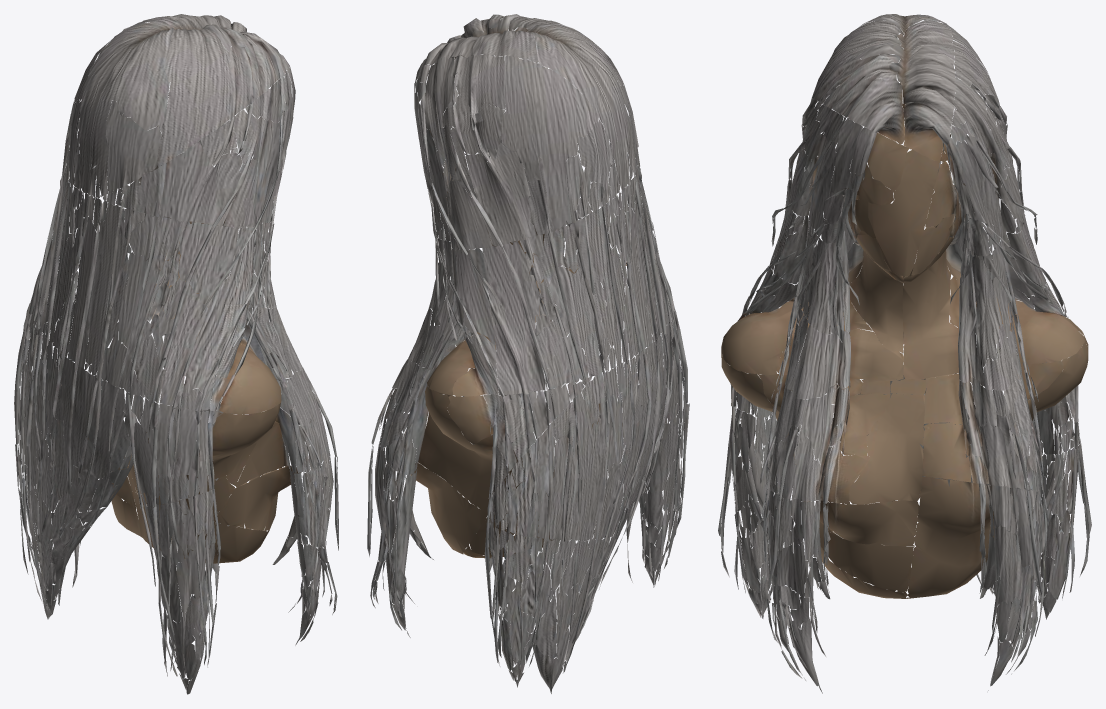
File: hair_sera.glb
3 renders of one model, left to right at view 1: azimuth 30°, elevation 25°; view 2: azimuth 150°, elevation 25°; view 3: azimuth 270°, elevation 25°, orthographic. The views are drawn at different scales.
Visible parts, largest first — view 1: tripo_node_a004925c-8ebf-4ad6-ab9a-c890733f40f1; view 2: tripo_node_a004925c-8ebf-4ad6-ab9a-c890733f40f1; view 3: tripo_node_a004925c-8ebf-4ad6-ab9a-c890733f40f1.
Part boxes in pixels (<box>): tripo_node_a004925c-8ebf-4ad6-ab9a-c890733f40f1: <box>14,14,338,694</box>; tripo_node_a004925c-8ebf-4ad6-ab9a-c890733f40f1: <box>367,14,689,693</box>; tripo_node_a004925c-8ebf-4ad6-ab9a-c890733f40f1: <box>718,14,1091,693</box>.
Bounding box in the file's own units: 0.3824 × 0.982 × 0.5224.
1 material, 1 textured.
